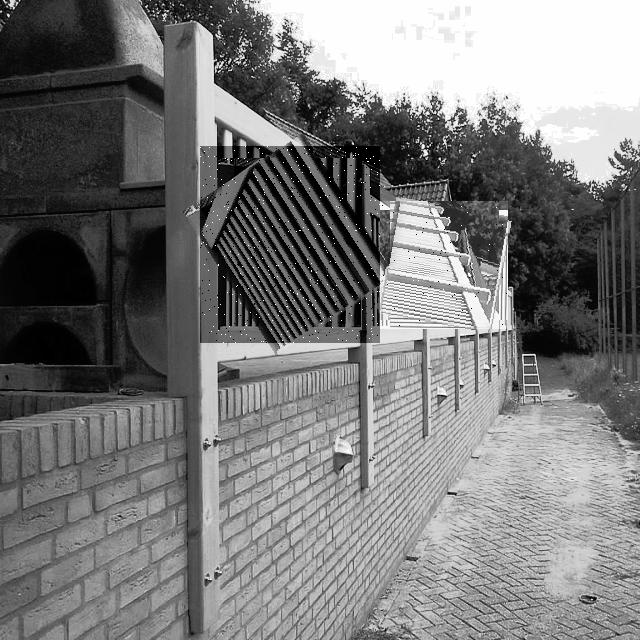fences: (200, 146, 380, 343), (380, 201, 508, 329)
